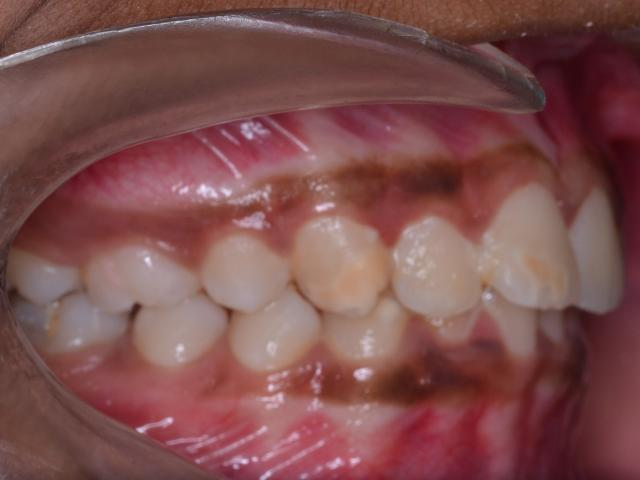canine class II 1/2: (230, 206, 410, 386)
molar class II full class: (7, 238, 215, 374)
